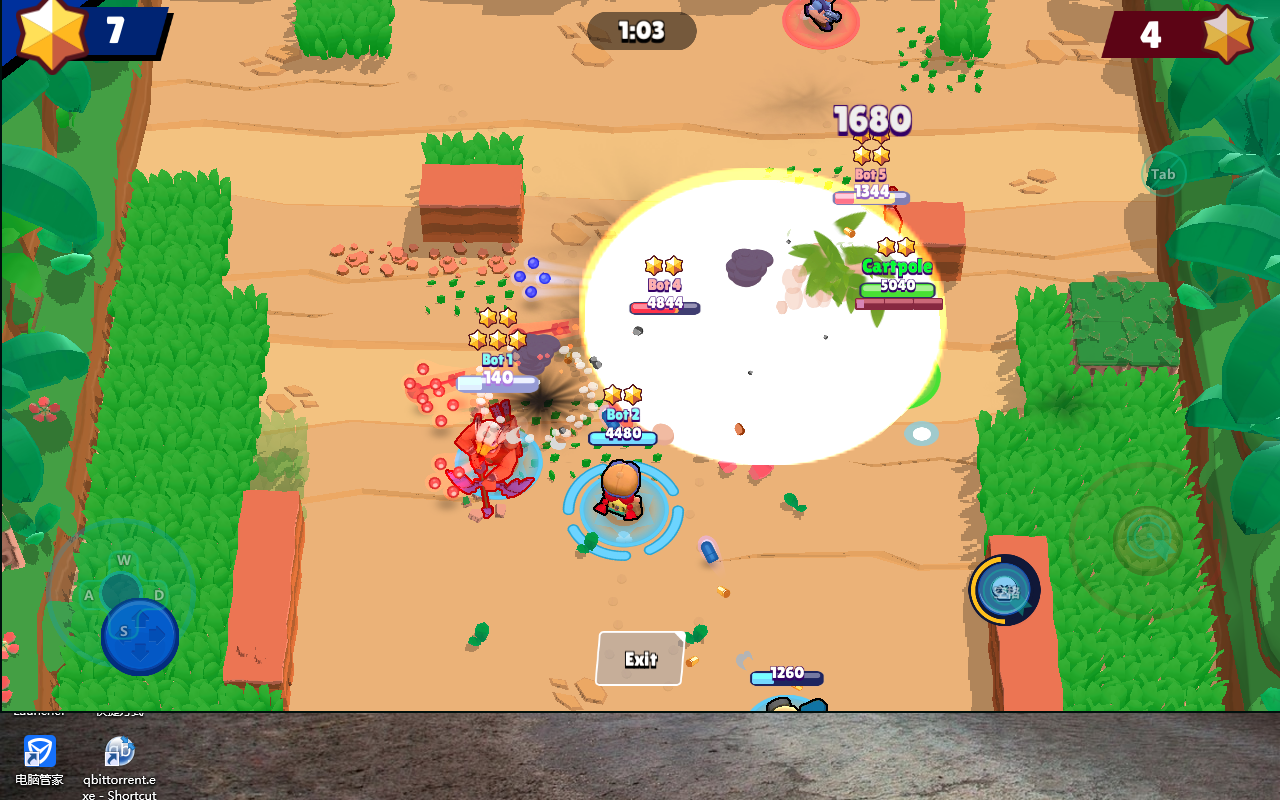current_player: (871, 352, 942, 408)
